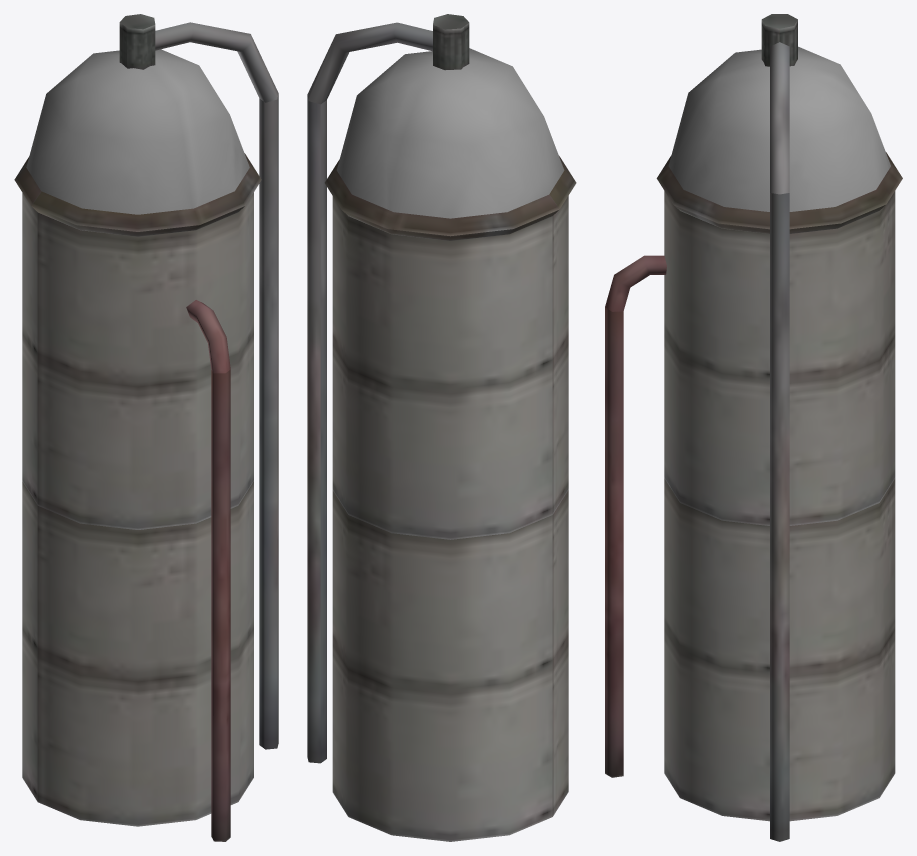
File: ind-silo.lod1.glb
The picture shows the model from 3 angles, left to right: view 1: azimuth 30°, elevation 25°; view 2: azimuth 150°, elevation 25°; view 3: azimuth 270°, elevation 25°; orthographic projection. The views are drawn at different scales.
Visible parts, largest first — view 1: Industrial_SiloTank_1_Industrial_Walls_FLR_1_0; view 2: Industrial_SiloTank_1_Industrial_Walls_FLR_1_0; view 3: Industrial_SiloTank_1_Industrial_Walls_FLR_1_0.
Part boxes in pixels (x1=…): Industrial_SiloTank_1_Industrial_Walls_FLR_1_0: x1=14, y1=14, x2=278, y2=841; Industrial_SiloTank_1_Industrial_Walls_FLR_1_0: x1=307, y1=14, x2=576, y2=841; Industrial_SiloTank_1_Industrial_Walls_FLR_1_0: x1=605, y1=14, x2=902, y2=841.
Size of the model in its own units: 3.05 by 8.9 by 3.19.
1 material, 1 textured.
